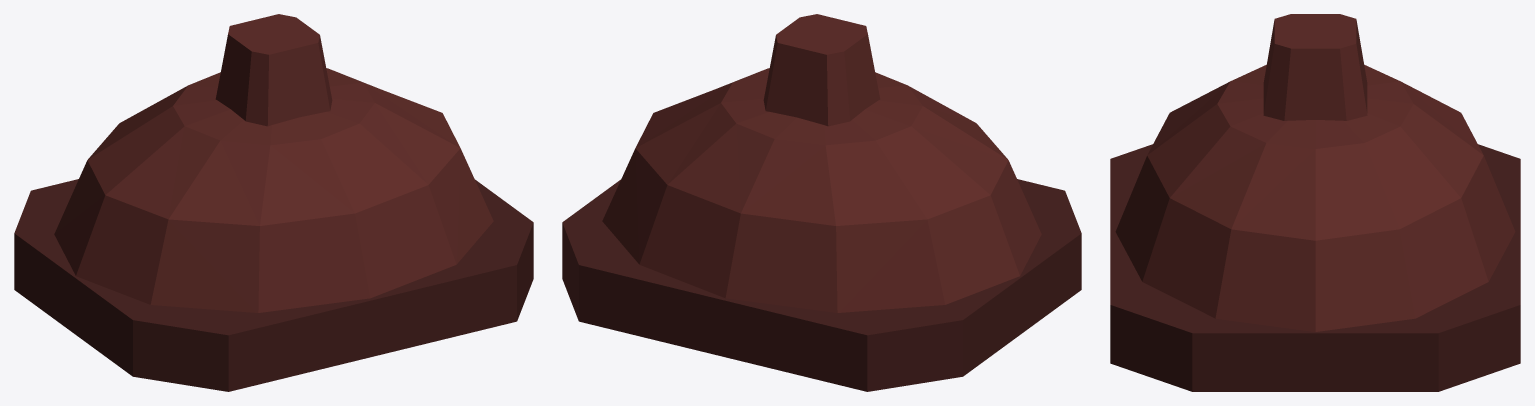
The model's file is beanie.glb.
3 views of the same model, side by side, from view 1: azimuth 30°, elevation 25°; view 2: azimuth 150°, elevation 25°; view 3: azimuth 270°, elevation 25° (orthographic). The views are drawn at different scales.
Parts seen in each view (by area): view 1: Beanie.002; view 2: Beanie.002; view 3: Beanie.002.
Boxes of the visible parts, bbox=[...] form: Beanie.002: bbox=[14, 14, 533, 391]; Beanie.002: bbox=[562, 14, 1081, 391]; Beanie.002: bbox=[1110, 14, 1520, 391].
Size of the model in its own units: 0.6798 by 0.4053 by 0.5808.
